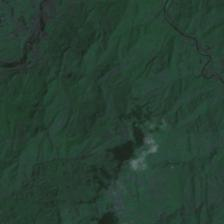landslides: (137, 166, 203, 220), (164, 158, 189, 177)
